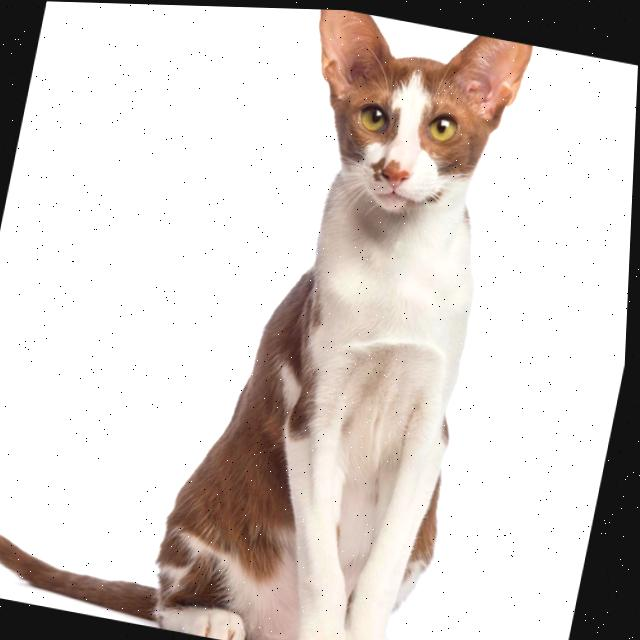Oriental: (0, 0, 548, 640)
